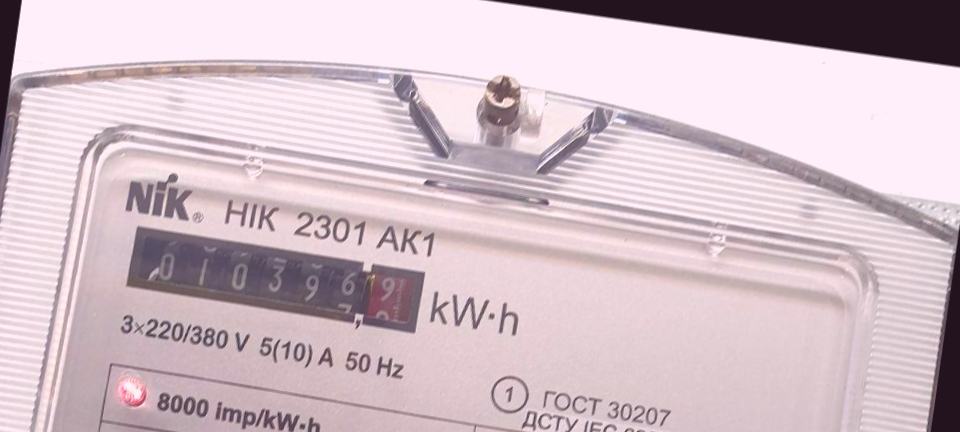0: (225, 258, 251, 293), (152, 247, 177, 283)
1: (193, 253, 210, 288)
3: (264, 261, 286, 296)
6: (335, 267, 360, 299)
9: (297, 270, 321, 305), (372, 273, 397, 306)
screen: (108, 211, 437, 349)
